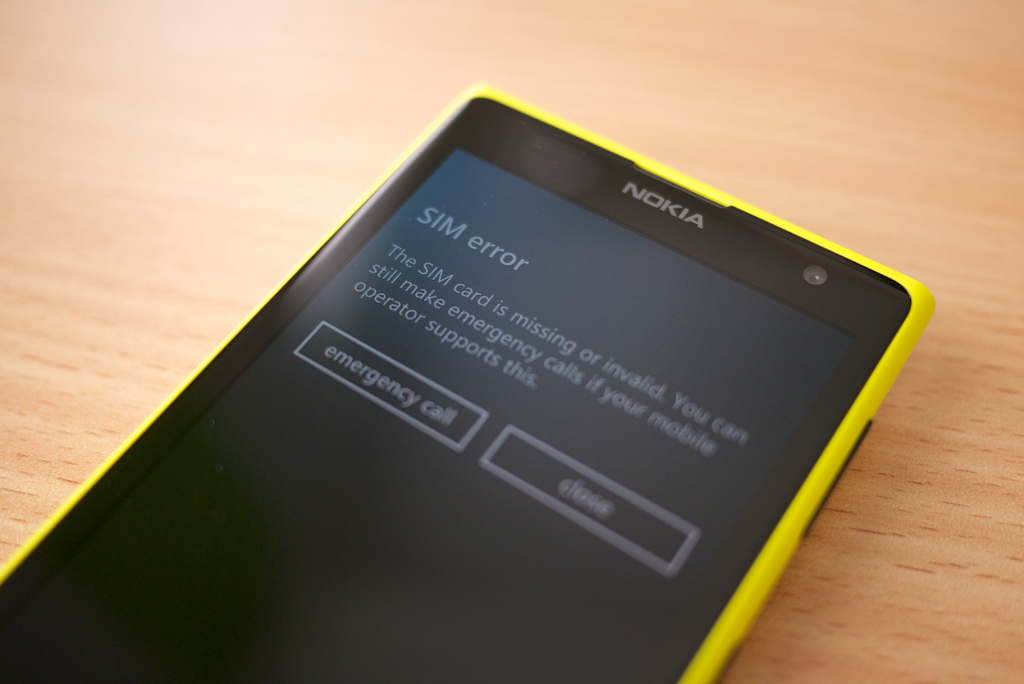Mobile-phone: (0, 96, 923, 684)
